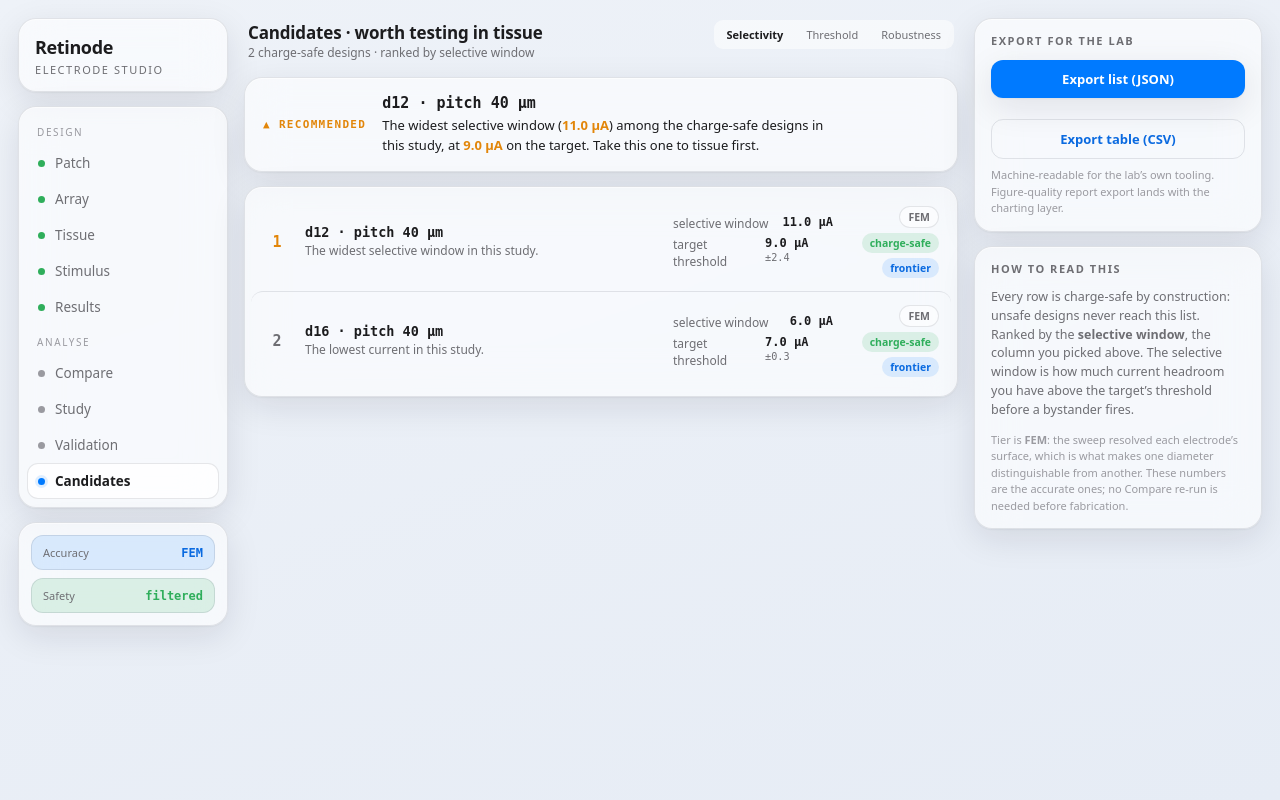
Test: Candidates · the trajectory whisker › ranks by robustness when asked, tightest band first
Expected: the 1st text "d12 · pitch 40 µm" is shown, [382,94,536,112]
What coordinates should you click on to do the following:
click the button "robustness"
I would click on:
 (911, 34)
Its box is [871,23,951,46].
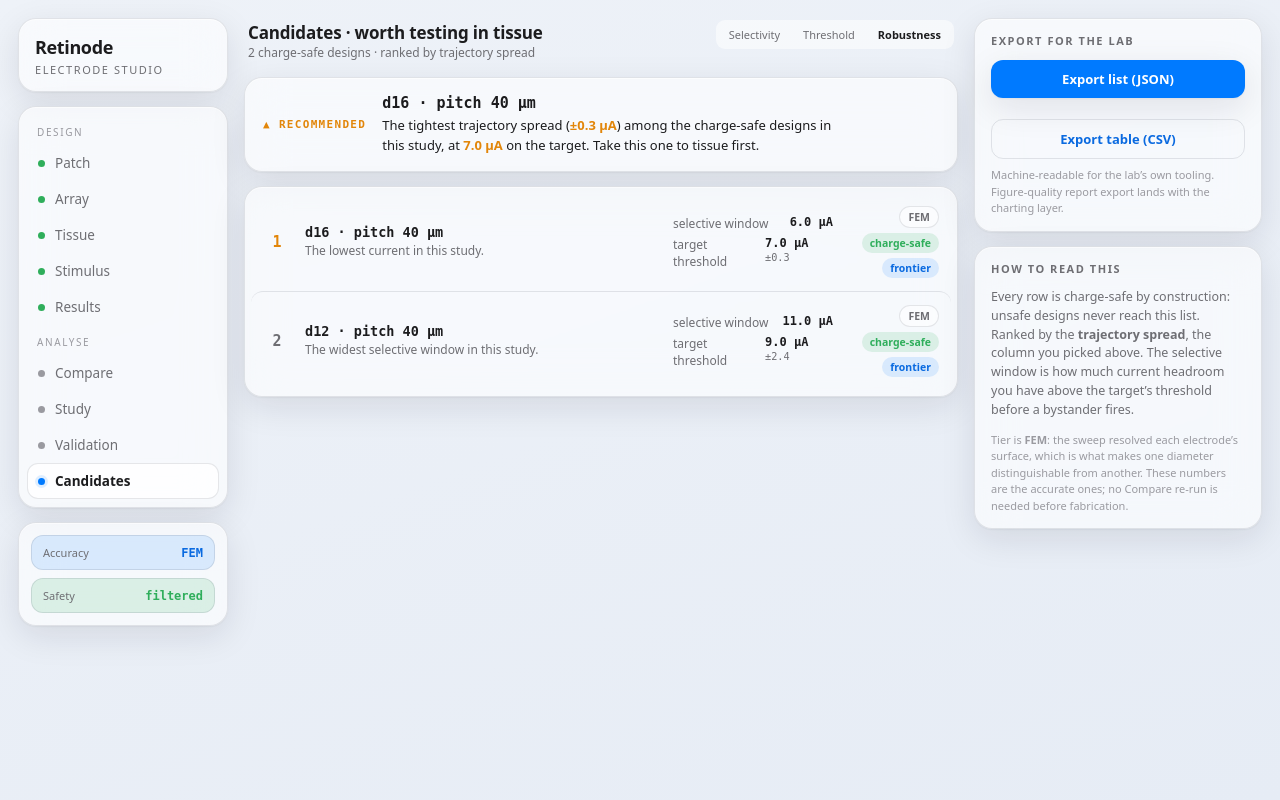
Expected: the 1st text "d16 · pitch 40 µm" is shown, [382,94,536,112]
